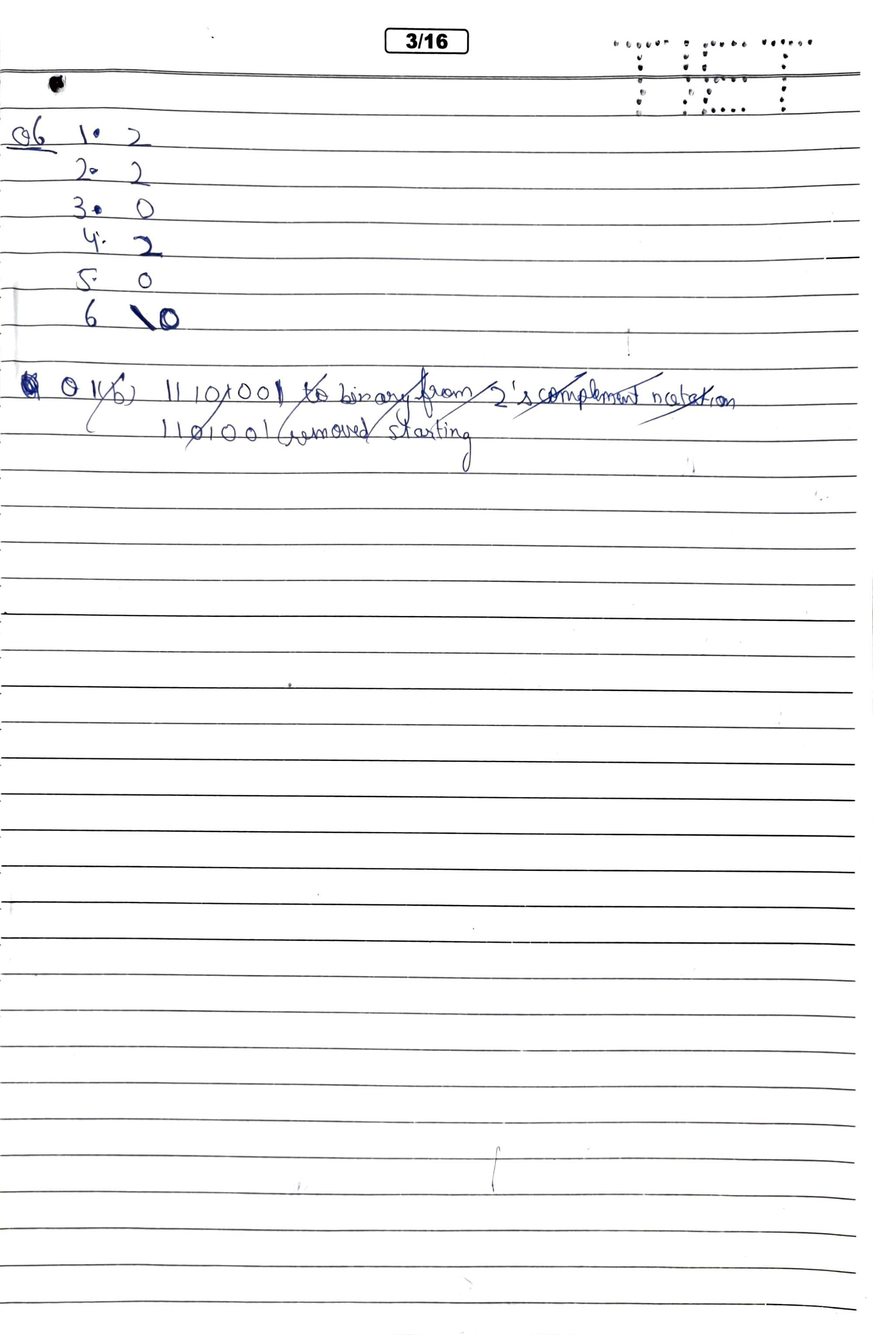cuttings: (15, 363, 742, 475)
